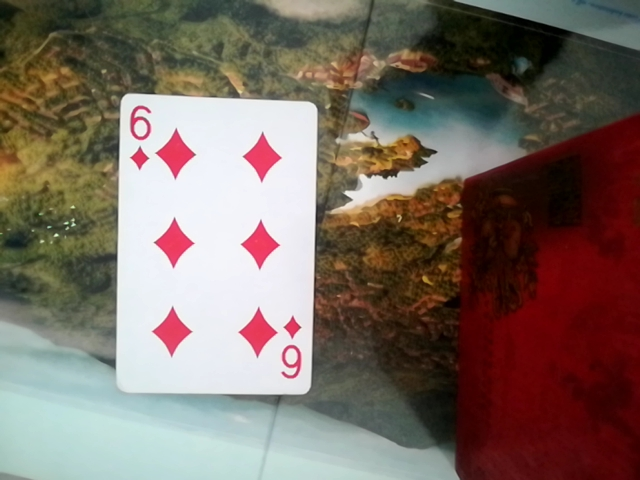fk 6: (109, 101, 321, 398)
